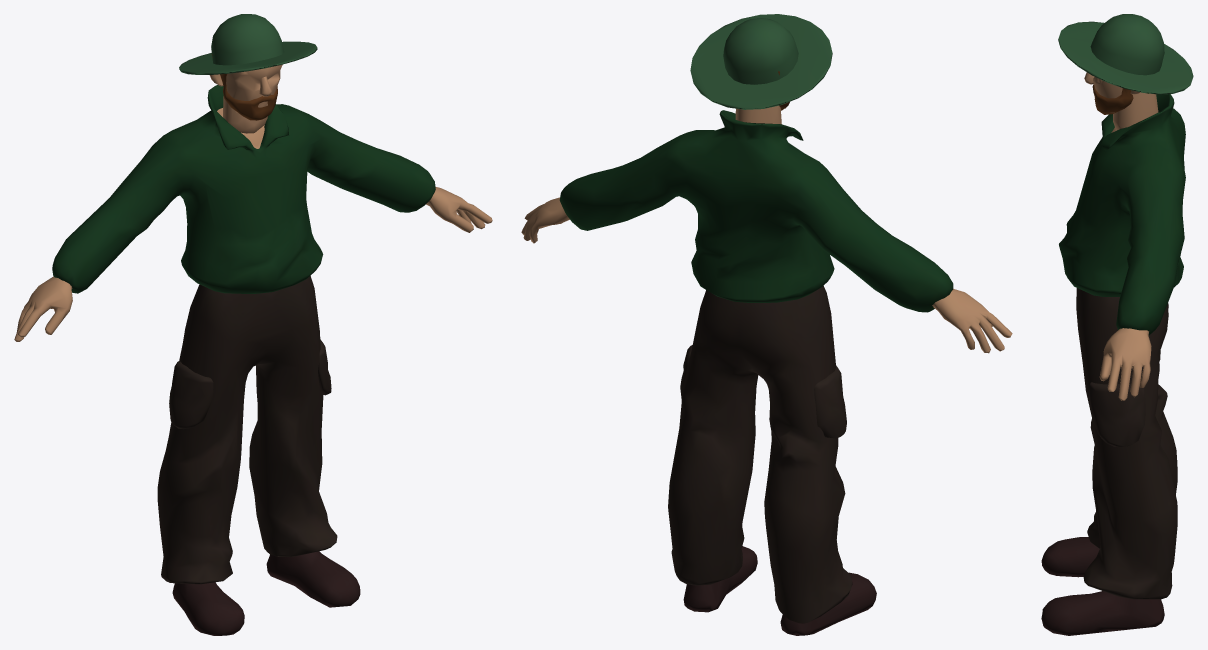
Rendered from Ranger_test_mixamo.fbx.
3 views of the same model, side by side, from view 1: azimuth 30°, elevation 25°; view 2: azimuth 150°, elevation 25°; view 3: azimuth 270°, elevation 25° (orthographic). The views are drawn at different scales.
Parts seen in each view (by area): view 1: Merged_Hand2; view 2: Merged_Hand2; view 3: Merged_Hand2.
Part boxes in pixels (box(x1,y1,x2,y2)): Merged_Hand2: box(14, 14, 492, 635); Merged_Hand2: box(521, 14, 1012, 635); Merged_Hand2: box(1041, 14, 1193, 635).
Size of the model in its own units: 151 by 175 by 41.6.
